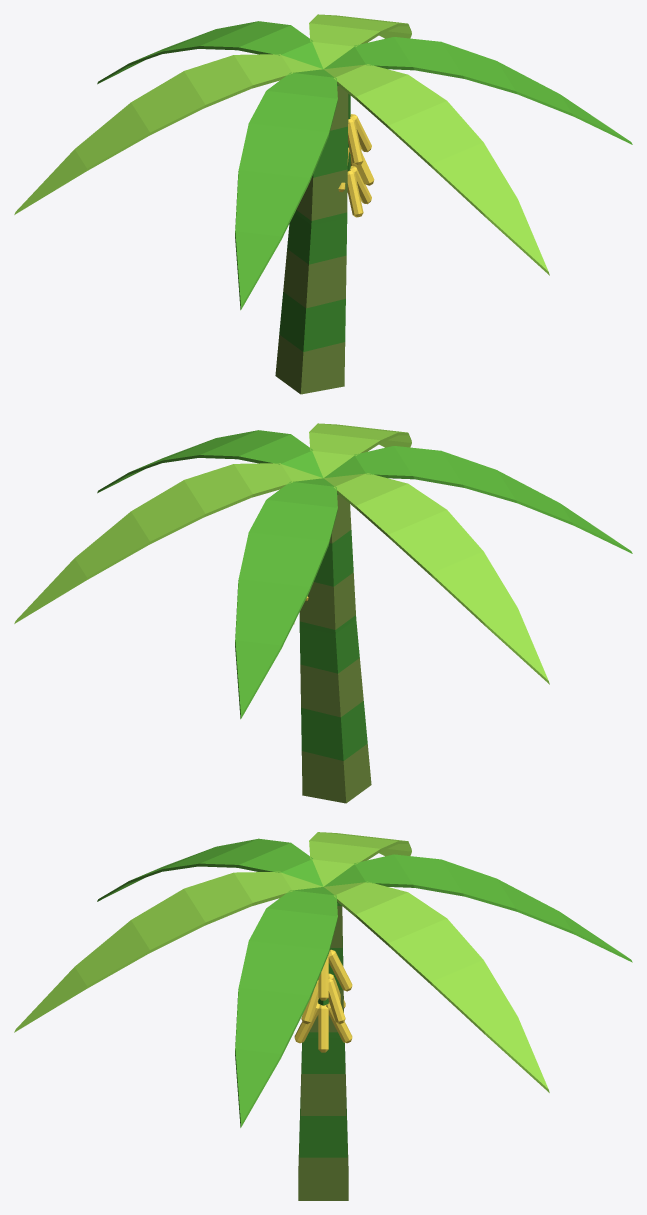
The model's file is BananaTree.fbx.
The picture shows the model from 3 angles, top to bottom: view 1: azimuth 30°, elevation 25°; view 2: azimuth 150°, elevation 25°; view 3: azimuth 270°, elevation 25°; orthographic projection.
Parts seen in each view (by area): view 1: BananaTree; view 2: BananaTree; view 3: BananaTree.
Boxes of the visible parts, x1,y1,x2,y2 form: BananaTree: (14, 14, 632, 394); BananaTree: (14, 423, 632, 803); BananaTree: (14, 832, 632, 1200).
Bounding box in the file's own units: 11.89 × 6.77 × 11.89.
Materials: 1 (1 with a texture image).
